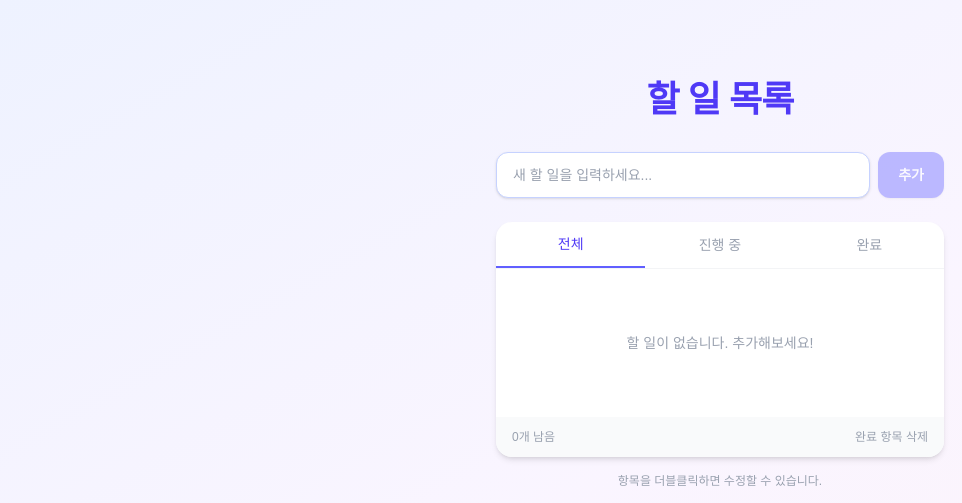
Scenario: Home 페이지 › 필터 › "완료" 필터에서 완료 항목이 없으면 안내 메시지를 표시한다
Click the button "완료" at coordinates (869, 245), box 795,222 -> 944,268
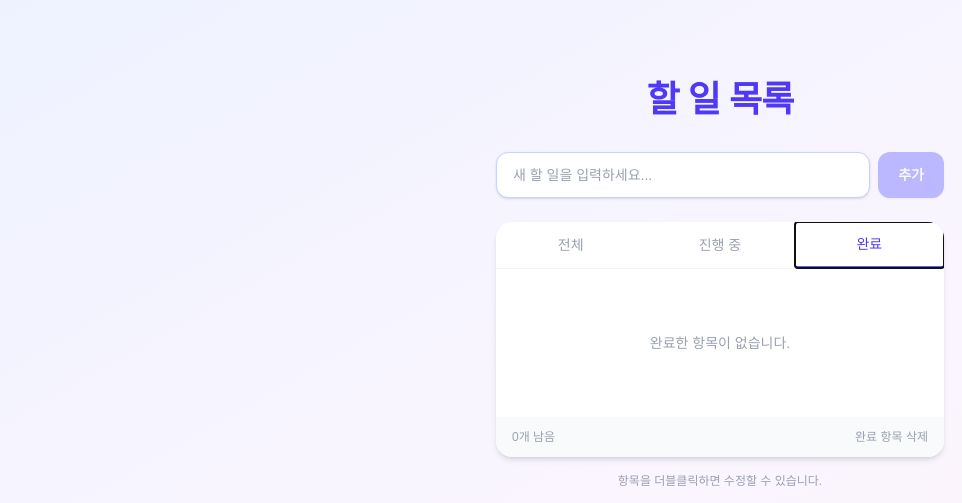
Check: the text "완료한 항목이 없습니다." is shown, box 650,335 -> 790,351
